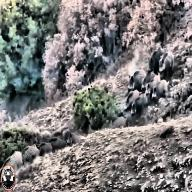boar: (158, 49, 177, 77), (144, 46, 162, 74), (128, 96, 153, 116), (152, 80, 172, 102), (122, 89, 141, 110), (127, 70, 145, 92), (144, 78, 162, 98), (139, 70, 154, 92)
